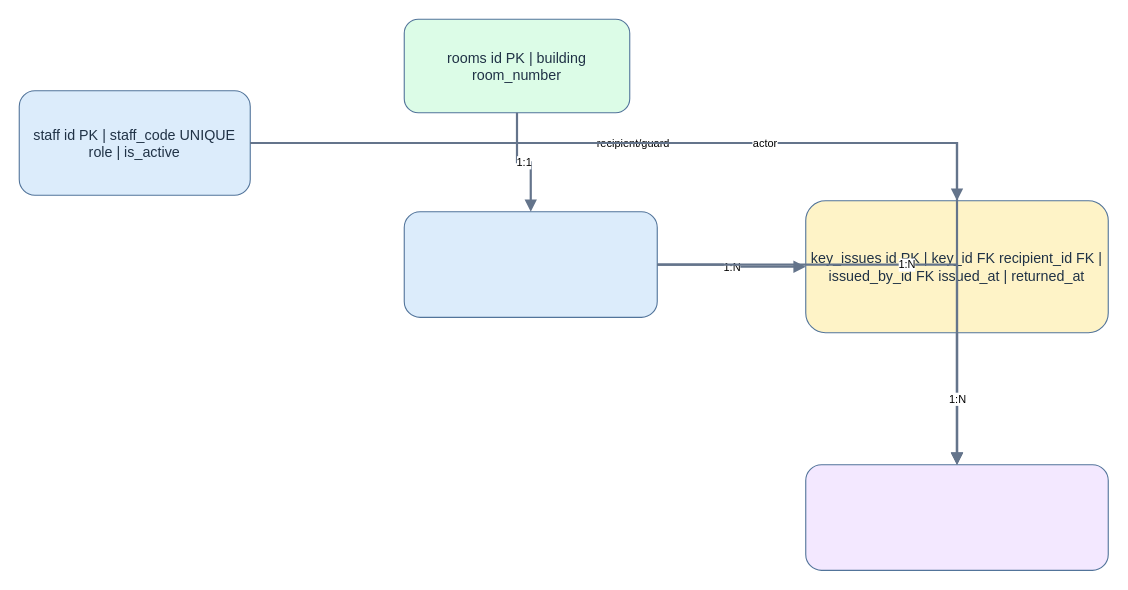
This 1128x590 diagram has some shape labels left out. The shapes that lost their labels are listed below. From the top down, each one's centre as x and y in pixels, then its label:
At point 530,264: "room_keys id PK | room_id FK UNIQUE serial_number | status".
At point 956,517: "key_audit id PK | issue_id FK key_id FK | actor_id FK".
